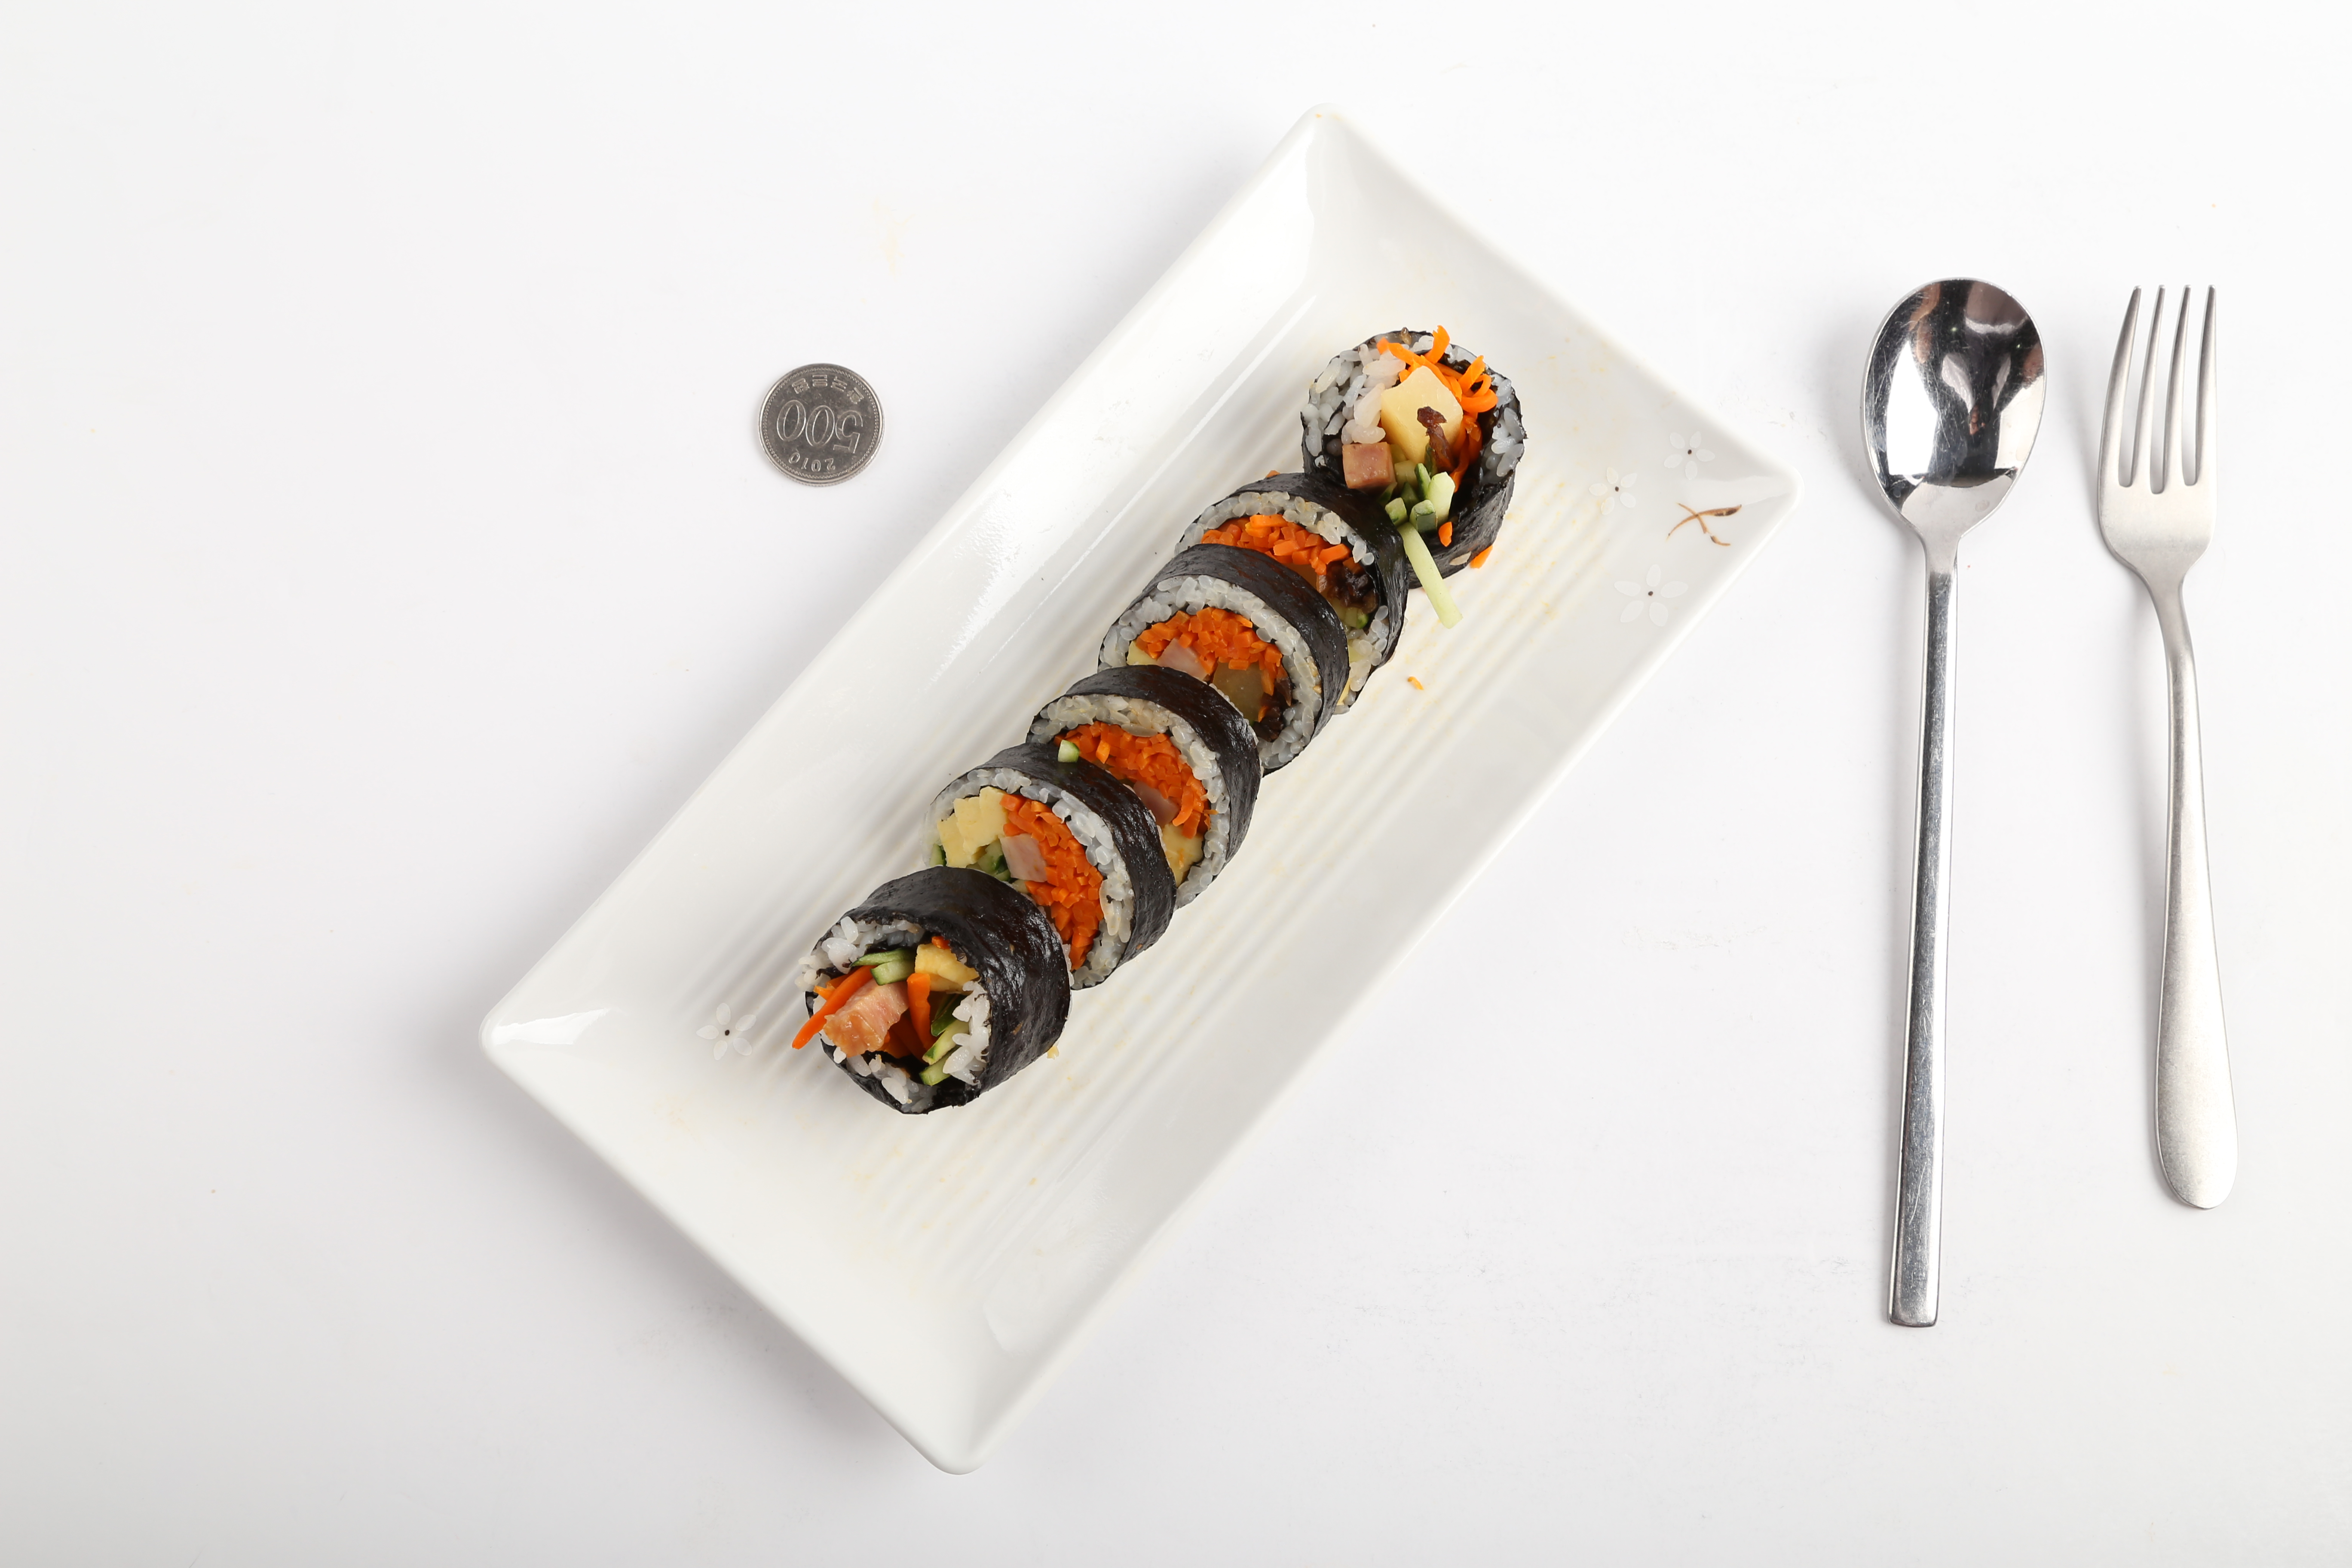dish: (499, 136, 1795, 1473)
ref_coin: (747, 355, 885, 493)
ref_fork: (2091, 276, 2221, 635)
ref_spoon: (1860, 268, 2054, 595)
김밥: (798, 317, 1633, 1113)
